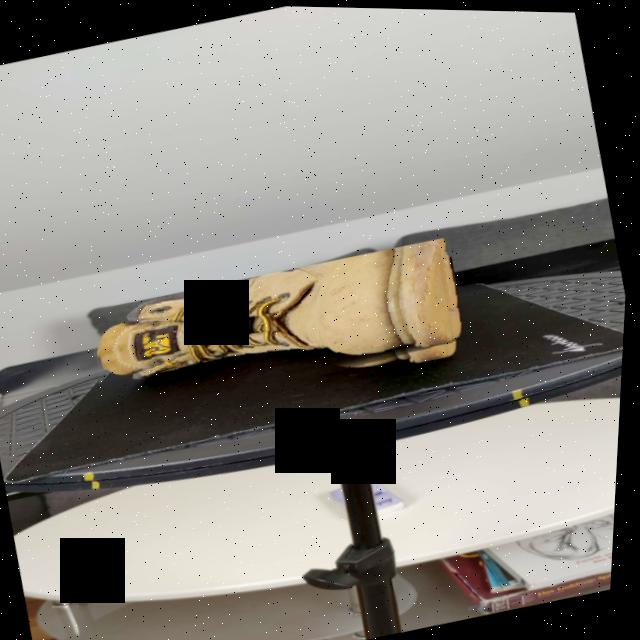shoe: (80, 228, 477, 435)
